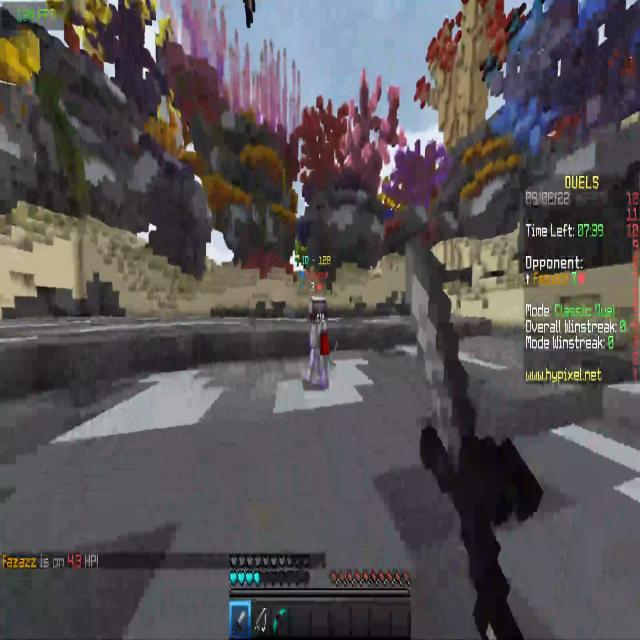Player: (304, 288, 338, 400)
